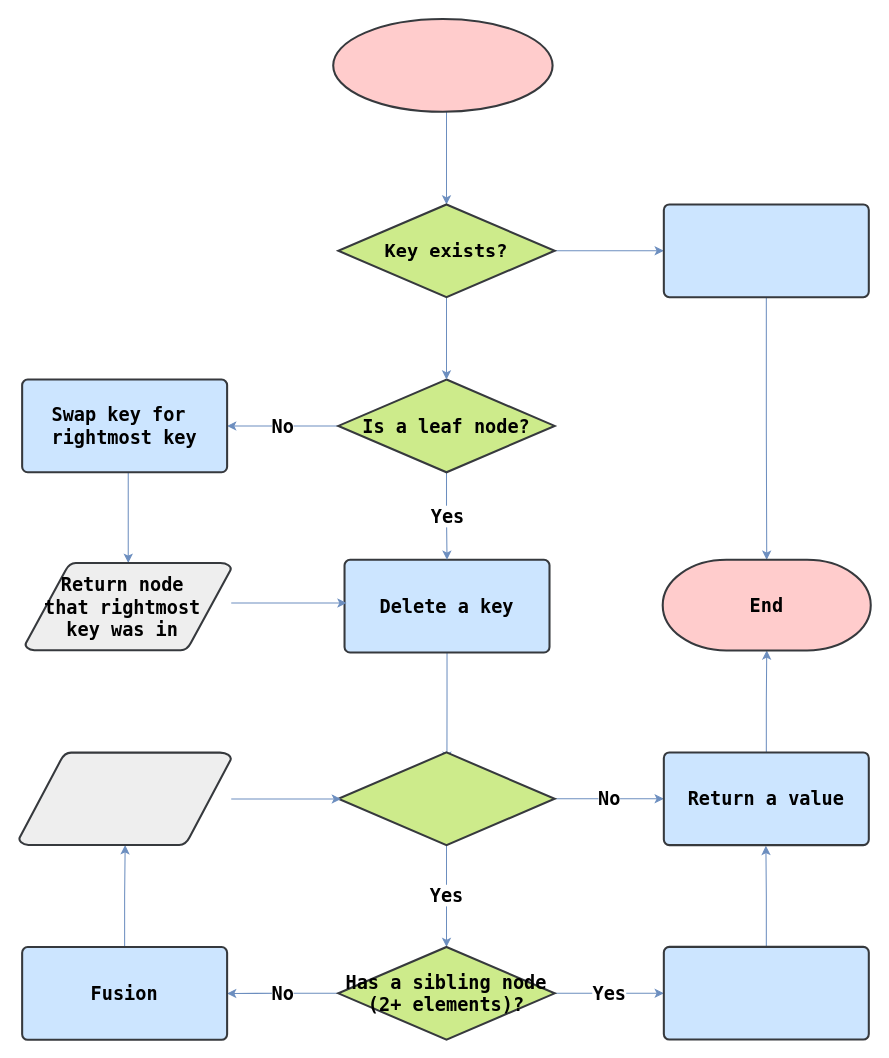
Image size: 889x1058. Some labels were removed from this diagram. The shapes that lost their labels are listed below. From the top down, each one's box as (x1, y1, x2, y2) in pixels, then its label:
(332, 18, 553, 112): Start
(662, 203, 869, 298): Return null
(18, 751, 232, 846): Return parent node
(337, 751, 555, 846): Is underflow?
(662, 945, 869, 1040): Transfer
